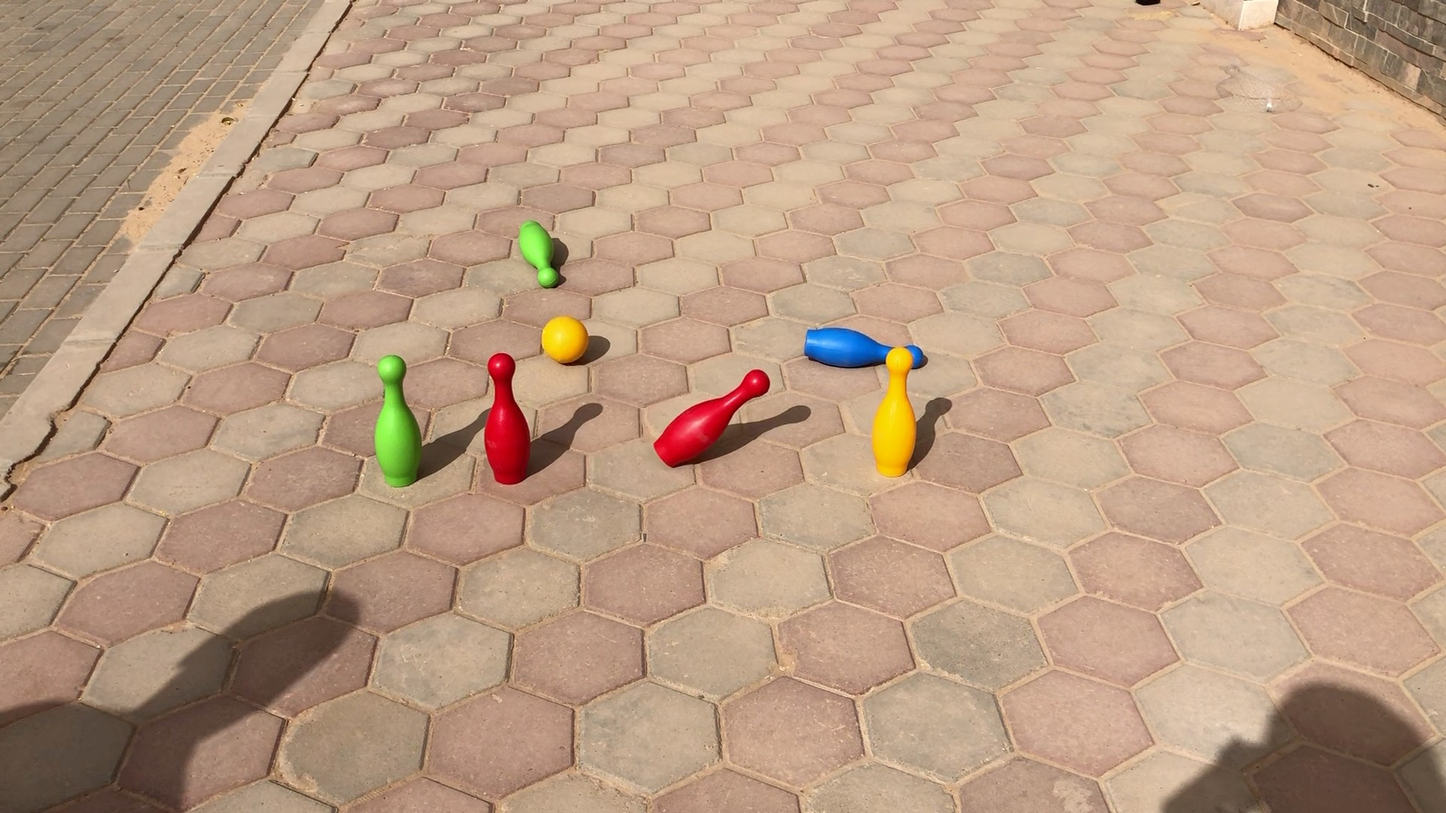bowling-pin: (657, 369, 767, 464), (800, 319, 927, 375), (371, 356, 420, 484), (483, 352, 530, 483), (874, 346, 920, 476), (517, 220, 565, 285)
